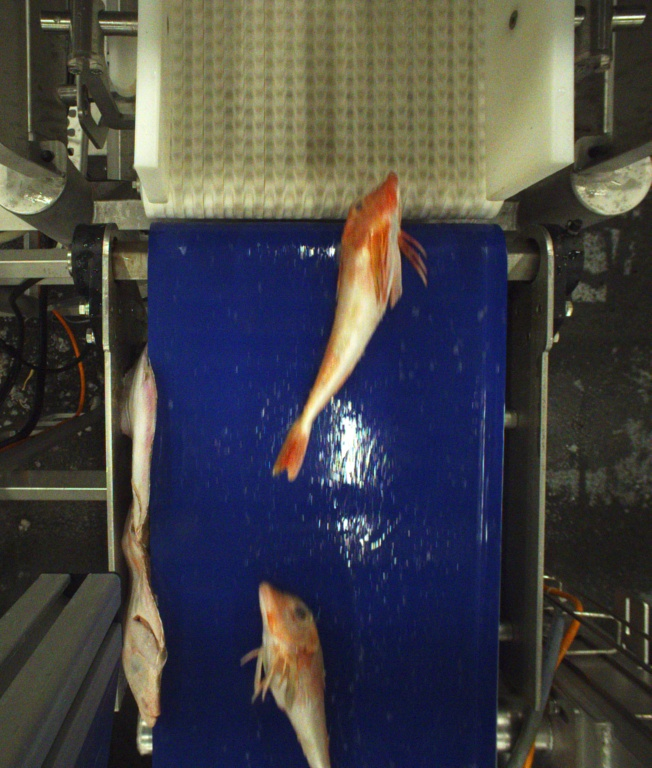GUU: (241, 583, 333, 768)
